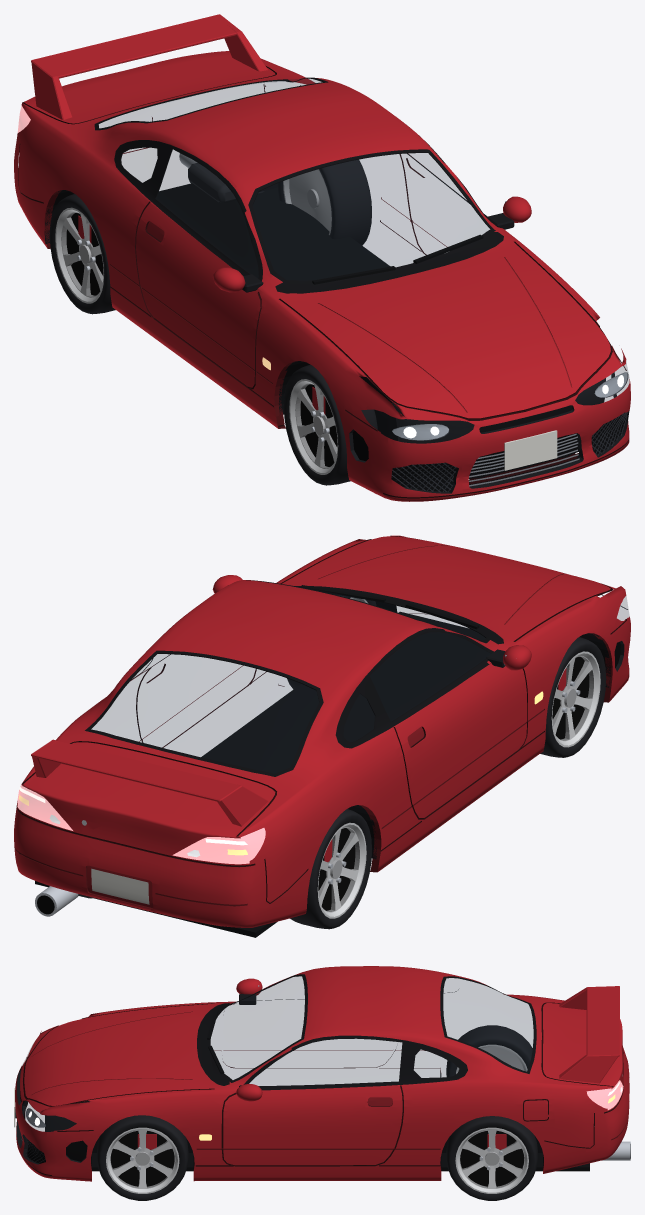
File: car_s15_red.glb
3 views of the same model, one above another, from view 1: azimuth 30°, elevation 25°; view 2: azimuth 150°, elevation 25°; view 3: azimuth 270°, elevation 25° (orthographic). The views are drawn at different scales.
Visible parts, largest first — view 1: body, wheel_fl, wheel_rl, wheel_rr; view 2: body, wheel_rl, wheel_fl; view 3: body, wheel_fr, wheel_rr, wheel_rl.
Part boxes in pixels (left/top/right/bottom): body: left=14, top=14, right=630, bottom=501; wheel_fl: left=283, top=364, right=377, bottom=485; wheel_rl: left=49, top=194, right=115, bottom=314; wheel_rr: left=277, top=159, right=371, bottom=245; body: left=14, top=535, right=630, bottom=937; wheel_rl: left=290, top=809, right=371, bottom=929; wheel_fl: left=540, top=637, right=606, bottom=757; body: left=14, top=966, right=630, bottom=1181; wheel_fr: left=97, top=1115, right=188, bottom=1200; wheel_rr: left=446, top=1116, right=537, bottom=1200; wheel_rl: left=446, top=1025, right=532, bottom=1077.
Size of the model in its own units: 1.94 by 1.28 by 4.46.
